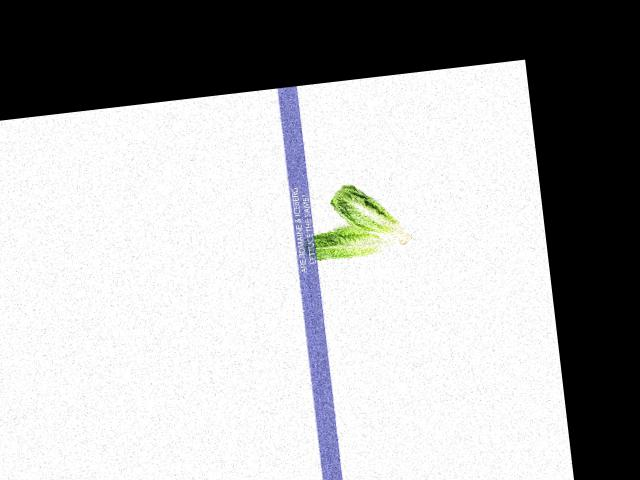lettuce: (324, 180, 423, 253)
